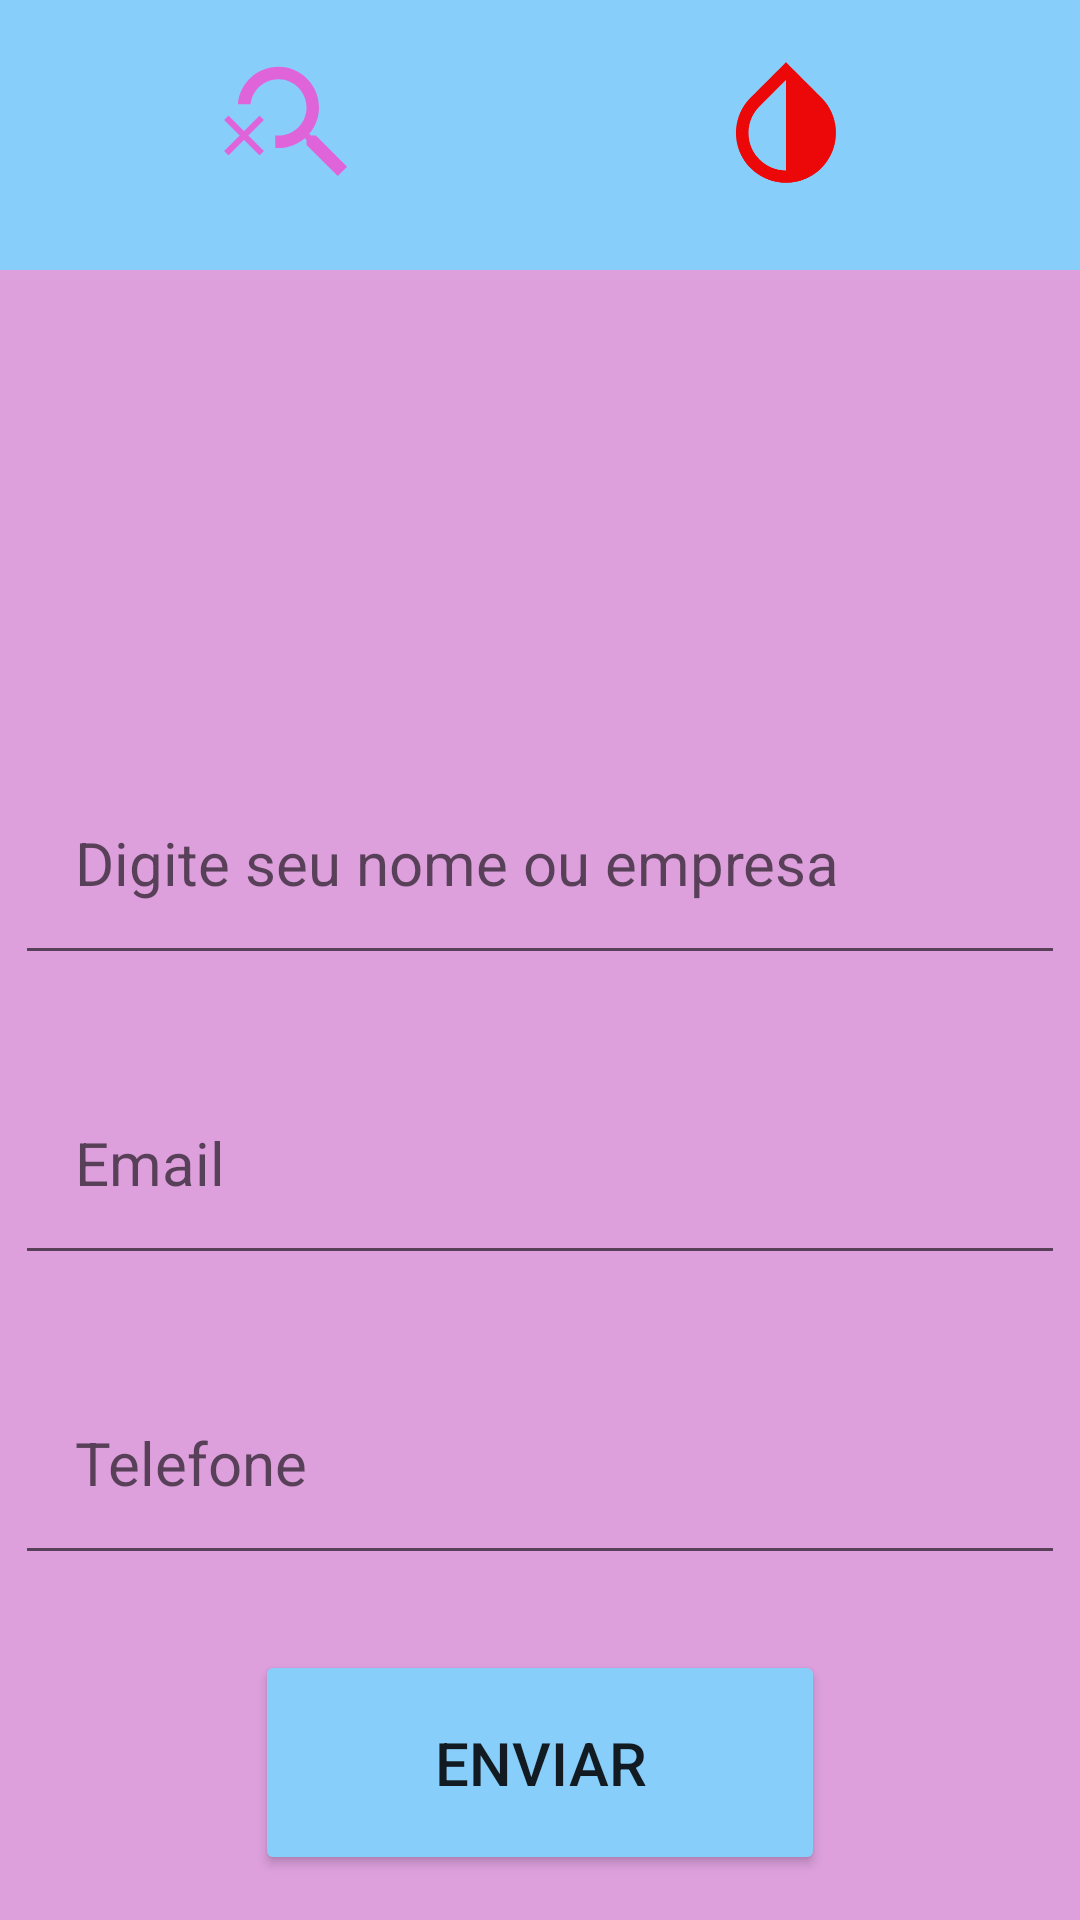

Screen size 1080px x 1920px. Icon name, then its box in pixels as (x1, y1, x2, y2):
invert colors: (736, 62, 836, 183)
search off: (224, 66, 347, 176)
